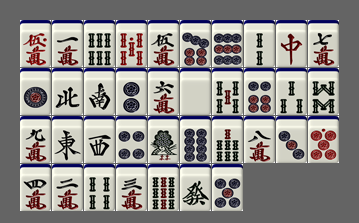0m: (20, 20, 51, 67)
0p: (308, 116, 339, 163)
0s: (116, 20, 147, 67)
1m: (52, 20, 83, 67)
1p: (20, 68, 51, 115)
1s: (148, 116, 179, 163)
1z: (52, 116, 83, 163)
2m: (52, 164, 83, 211)
2p: (116, 68, 147, 115)
2s: (244, 20, 275, 67)
2z: (84, 68, 115, 115)
3m: (116, 164, 147, 211)
3p: (276, 116, 307, 163)
3s: (276, 68, 307, 115)
3z: (84, 116, 115, 163)
4m: (20, 164, 51, 211)
4p: (116, 116, 147, 163)
4s: (84, 164, 115, 211)
4z: (52, 68, 83, 115)
5m: (148, 20, 179, 67)
5p: (212, 164, 243, 211)
5s: (212, 68, 243, 115)
5z: (180, 68, 211, 115)
6m: (148, 68, 179, 115)
6p: (244, 68, 275, 115)
6s: (84, 20, 115, 67)
6z: (180, 164, 211, 211)
7m: (308, 20, 339, 67)
7p: (180, 20, 211, 67)
7s: (212, 116, 243, 163)
7z: (276, 20, 307, 67)
8m: (244, 116, 275, 163)
8p: (180, 116, 211, 163)
8s: (308, 68, 339, 115)
9m: (20, 116, 51, 163)
9p: (212, 20, 243, 67)
9s: (148, 164, 179, 211)
